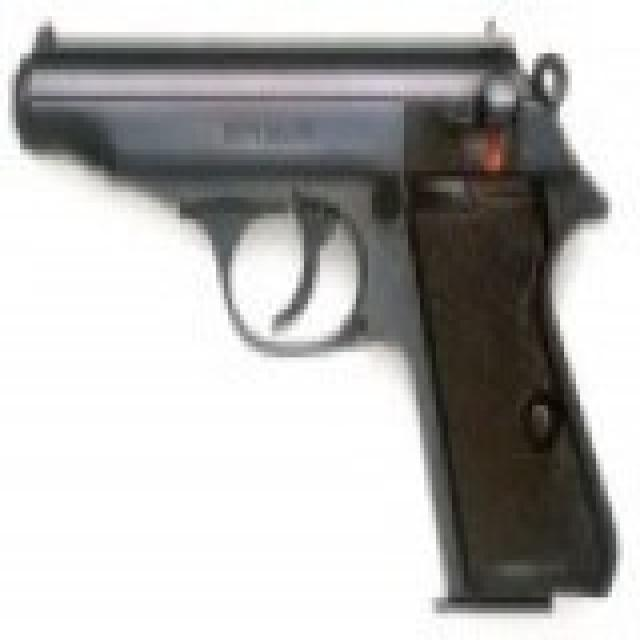Gun: (9, 12, 628, 592)
